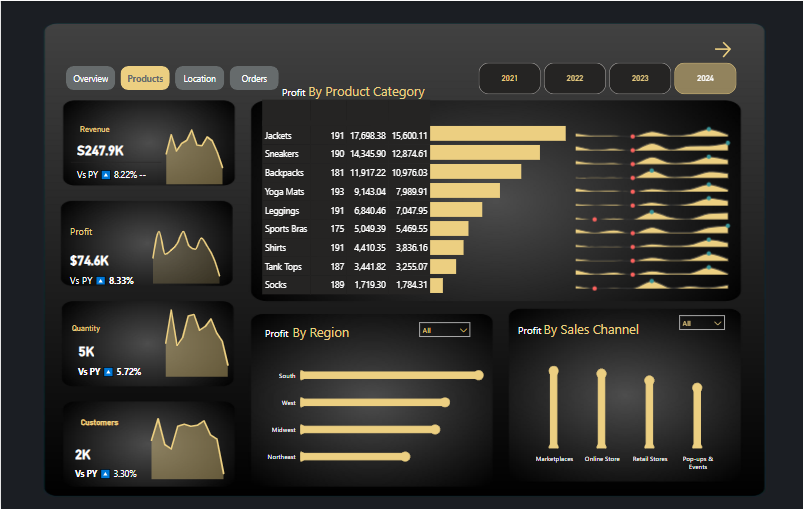

Layout of this report page (visuals, bound fields, positions):
{"tool":"powerbi","page":{"name":"Products","canvas":[1500,950],"ordinal":1},"visuals":[{"type":"group","id":"g1","title":"Group 2","box":[112.2,396,344.1,138.6],"z":0,"group":"g3"},{"type":"barChart","title":"Profit by Region","fields":{"Category":["Wears.Region"],"Y":["Sum(Wears.Profit)"]},"box":[488.1,647.3,429.5,251.4],"z":0},{"type":"group","id":"g2","title":"Group 4","box":[124.8,226.3,333.1,121.5],"z":1000,"group":"g3"},{"type":"cardVisual","fields":{"Data":["Wears.TotalProfit"]},"box":[112.2,400.8,162.3,133.8],"z":1000,"group":"g6"},{"type":"columnChart","title":"Profit by Sales Channel","fields":{"Category":["Wears.Sales Channel"],"Y":["Sum(Wears.Profit)"]},"box":[944.4,647,435.7,239.4],"z":1000},{"type":"barChart","fields":{"Y":["Wears.TotalProfit"],"Category":["Wears.Product Name"]},"box":[796,222.1,297.5,331],"z":2000,"group":"g7"},{"type":"group","id":"g3","title":"Group 6","box":[112.2,226.3,359.1,497.4],"z":2000},{"type":"group","id":"g4","title":"Group 1","box":[126.9,561.5,343.6,163.4],"z":2000,"group":"g3"},{"type":"tableEx","fields":{"Values":["Wears.Product Name","Wears.Customer ID","Wears.CY Profit","Wears.PY Profit"]},"box":[481.8,180.2,328.9,398],"z":3000,"group":"g7"},{"type":"cardVisual","fields":{"Data":["Sum(Wears.Revenue)"]},"box":[124.8,243.1,180.2,104.7],"z":3000,"group":"g2"},{"type":"group","id":"g5","title":"Group 3","box":[121.5,758.4,345.7,171.8],"z":3000},{"type":"PBI_CV_25997FEB_F466_44FA_B562_AC4063283C4C","fields":{"axis":["Wears.Product Name"],"measure":["Sum(Wears.Profit)"],"category":["Calendar.Month No"],"tooltips":["Wears.2023 Profit","Wears.2024 Profit","Wears.YoY Profit % Change"]},"box":[1055.9,222.1,324.7,331],"z":4000},{"type":"areaChart","fields":{"Y":["Sum(Wears.Revenue)"],"Category":["Calendar.Month No"]},"box":[284,226.3,173.9,121.5],"z":4000,"group":"g2"},{"type":"cardVisual","fields":{"Data":["Wears.TotalCustomers"]},"box":[121.5,787.7,169.7,142.5],"z":4000,"group":"g5"},{"type":"advancedSlicerVisual","fields":{"Values":["Calendar.Year"]},"box":[888.3,111,492.3,69.1],"z":5000},{"type":"cardVisual","fields":{"Data":["Wears.TotalQuantity"]},"box":[126.9,611.8,173.9,113.1],"z":5000,"group":"g4"},{"type":"actionButton","box":[1330.3,71.2,100.6,39.8],"z":6000},{"type":"textbox","box":[126.9,599.2,136.2,35.6],"z":6000,"group":"g4"},{"type":"areaChart","fields":{"Category":["Calendar.Month No"],"Y":["Wears.TotalCustomers"]},"box":[253.5,758.4,213.7,140.4],"z":6000,"group":"g5"},{"type":"pageNavigator","box":[121.5,121.5,398,48.2],"z":7000},{"type":"textbox","box":[141.6,226.3,163.4,35.6],"z":7000,"group":"g2"},{"type":"stackedAreaChart","fields":{"Category":["Calendar.Month No"],"Y":["Wears.TotalProfit"]},"box":[257.2,396,199.2,137.2],"z":7000,"group":"g6"},{"type":"textbox","box":[488.1,597.1,176,50.3],"z":8000},{"type":"areaChart","fields":{"Y":["Sum(Wears.Quantity)"],"Category":["Calendar.Month No"]},"box":[281.9,561.5,188.5,146.6],"z":9000,"group":"g4"},{"type":"slicer","fields":{"Values":["Wears.Region"]},"box":[773,590.8,115.2,56.6],"z":9000},{"type":"textbox","box":[961.6,590.8,257.7,56.6],"z":10000},{"type":"textbox","box":[144.5,773.1,90.1,35.6],"z":10000,"group":"g5"},{"type":"group","id":"g6","title":"Group 5","box":[112.2,396,344.1,138.6],"z":10002,"group":"g1"},{"type":"slicer","fields":{"Values":["Wears.Region"]},"box":[1259.1,578.2,104.7,44],"z":11000},{"type":"textbox","box":[519.6,146.6,318.4,58.7],"z":12000},{"type":"group","id":"g7","title":"Group 7","box":[481.8,180.2,611.7,398],"z":13000}]}

Visuals, with their boxes in screenshot pixels (x1, y1, x2, y2), scaled from the page's 1500x950 canvas onto the 803x509 screenshot:
"Group 2" group: 60 212 244 286
"Profit by Region" barChart: 261 347 491 482
"Group 4" group: 67 121 245 186
cardVisual - Wears.TotalProfit: 60 215 147 286
"Profit by Sales Channel" columnChart: 506 347 739 475
barChart - Wears.TotalProfit x Wears.Product Name: 426 119 585 296
"Group 6" group: 60 121 252 388
"Group 1" group: 68 301 252 388
tableEx - Wears.Product Name x Wears.Customer ID: 258 97 434 310
cardVisual - Sum(Wears.Revenue): 67 130 163 186
"Group 3" group: 65 406 250 498
PBI_CV_25997FEB_F466_44FA_B562_AC4063283C4C - Wears.Product Name x Sum(Wears.Profit): 565 119 739 296
areaChart - Sum(Wears.Revenue) x Calendar.Month No: 152 121 245 186
cardVisual - Wears.TotalCustomers: 65 422 156 498
advancedSlicerVisual - Calendar.Year: 476 59 739 96
cardVisual - Wears.TotalQuantity: 68 328 161 388
actionButton: 712 38 766 59
textbox: 68 321 141 340
areaChart - Calendar.Month No x Wears.TotalCustomers: 136 406 250 482
pageNavigator: 65 65 278 91
textbox: 76 121 163 140
stackedAreaChart - Calendar.Month No x Wears.TotalProfit: 138 212 244 286
textbox: 261 320 356 347
areaChart - Sum(Wears.Quantity) x Calendar.Month No: 151 301 252 379
slicer - Wears.Region: 414 317 475 347
textbox: 515 317 653 347
textbox: 77 414 126 433
"Group 5" group: 60 212 244 286
slicer - Wears.Region: 674 310 730 333
textbox: 278 79 449 110
"Group 7" group: 258 97 585 310
